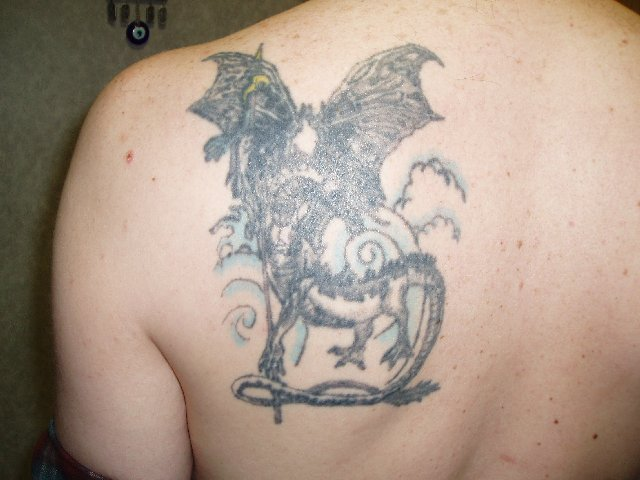tatu6_drakon: (178, 35, 486, 442)
